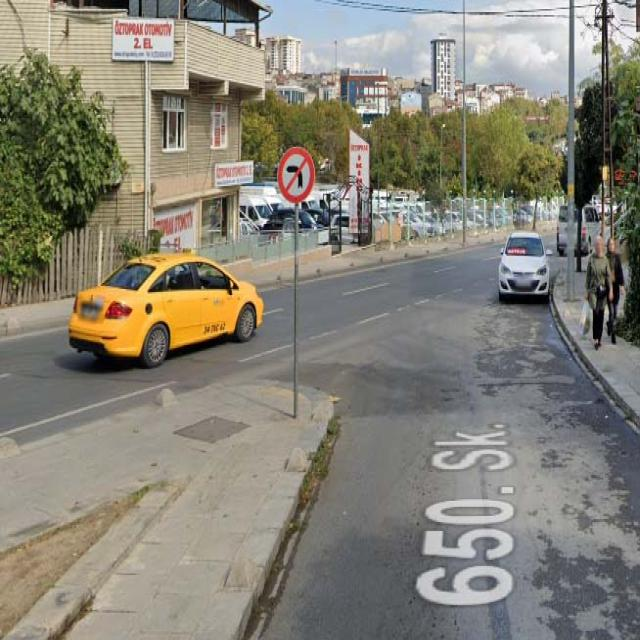soladonulmez: (278, 147, 315, 204)
